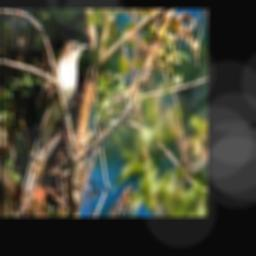Cuckoo: (23, 41, 89, 196)
